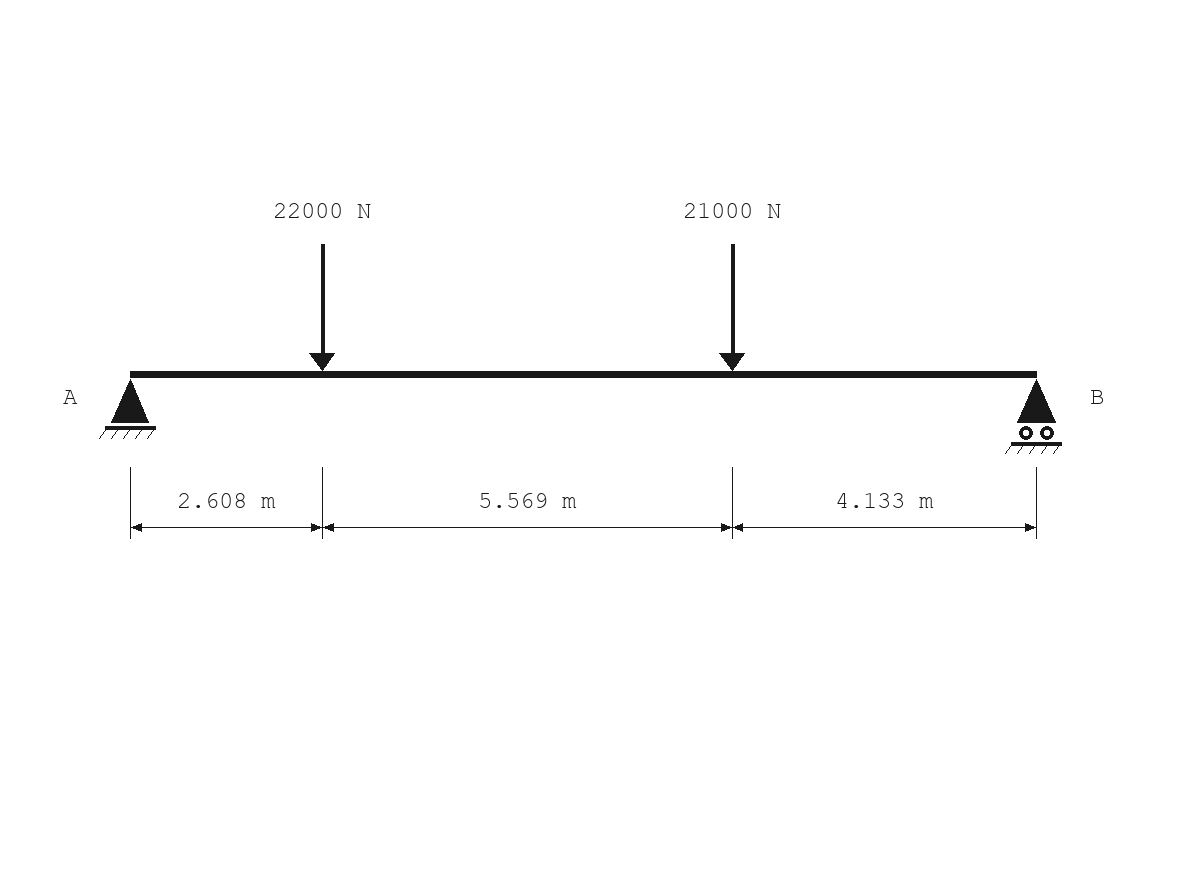pin_support: (99, 379, 156, 439)
point_load: (309, 244, 335, 371), (719, 244, 745, 371)
roller_support: (1005, 379, 1062, 454)
